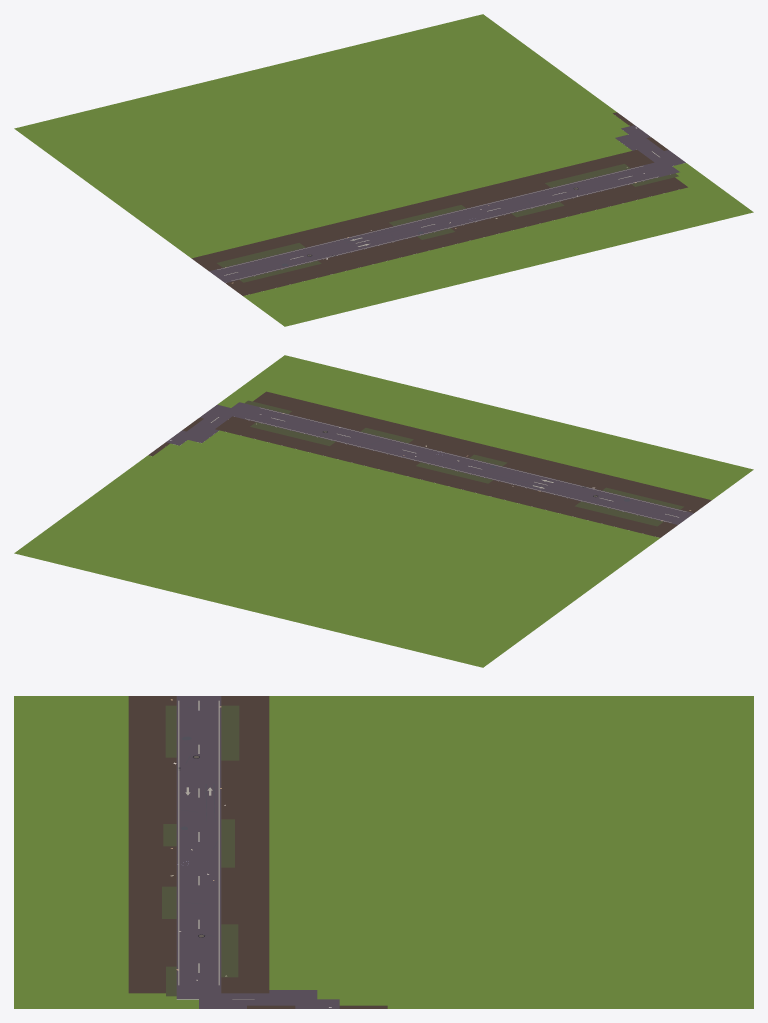
File: cure-32-1.glb
3 views of the same model, one above another, from view 1: azimuth 30°, elevation 25°; view 2: azimuth 150°, elevation 25°; view 3: azimuth 270°, elevation 25° (orthographic). The views are drawn at different scales.
Parts seen in each view (by area): view 1: cure-32-1; view 2: cure-32-1; view 3: cure-32-1.
Boxes of the visible parts, x1,y1,x2,y2 form: cure-32-1: (14, 14, 753, 326); cure-32-1: (14, 355, 753, 667); cure-32-1: (14, 696, 753, 1008).
Size of the model in its own units: 100 by 0.017 by 100.
